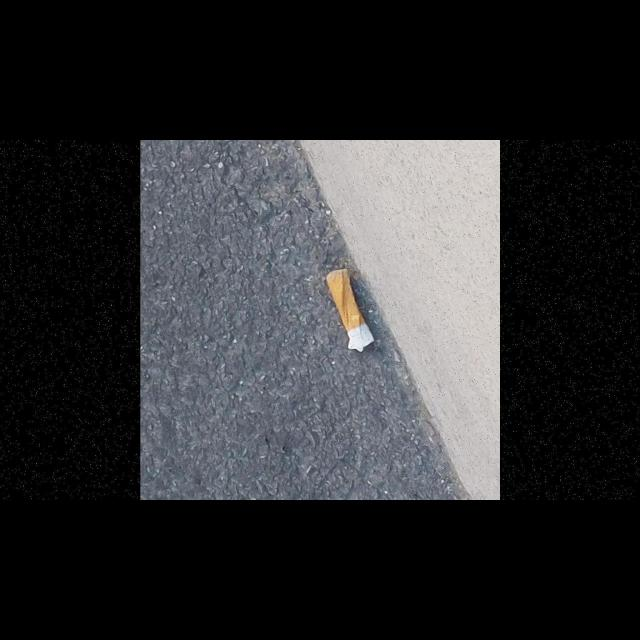cigarette: (325, 268, 375, 353)
